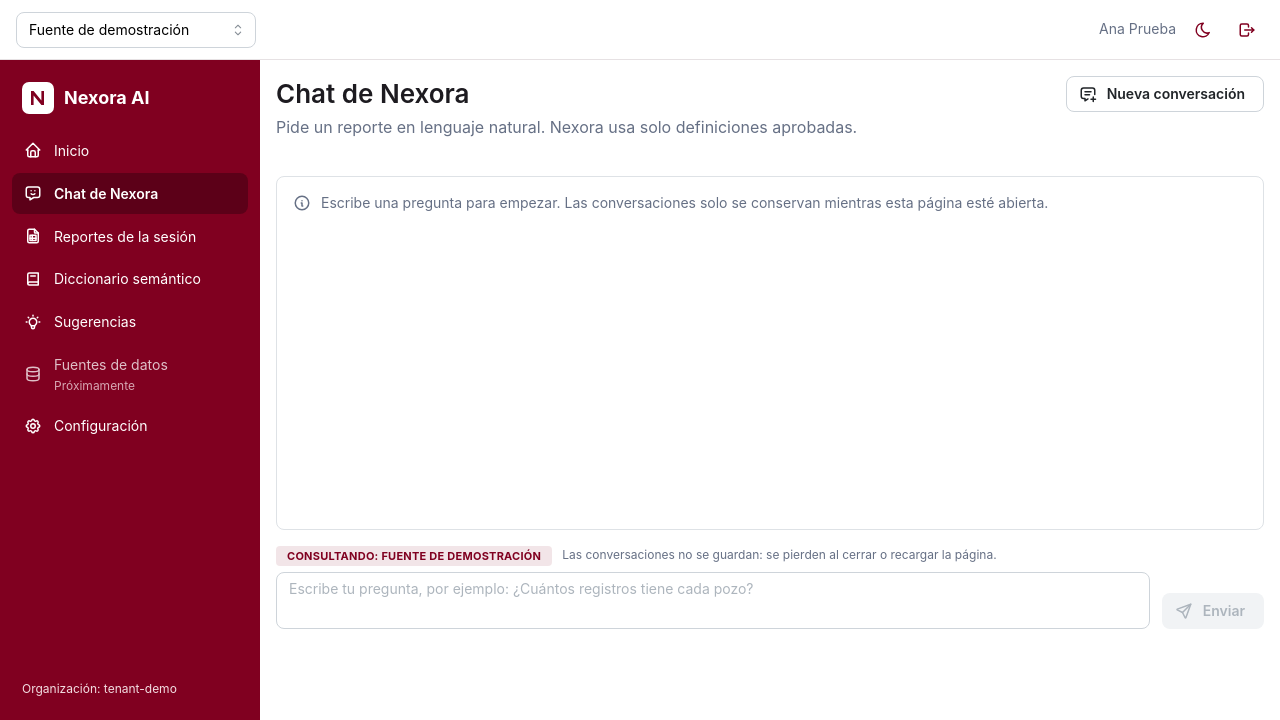
Test case: chat with Nexora (F2/F3/F4 flows, synthetic) › F3/F4: shows the business explanation of a request that cannot be answered
The width and height of the screenshot is (1280, 720).
Type "¿Cuánto vendimos?" into the text box labelled "Escribe tu pregunta" at (713, 600), box [276,572,1150,629]
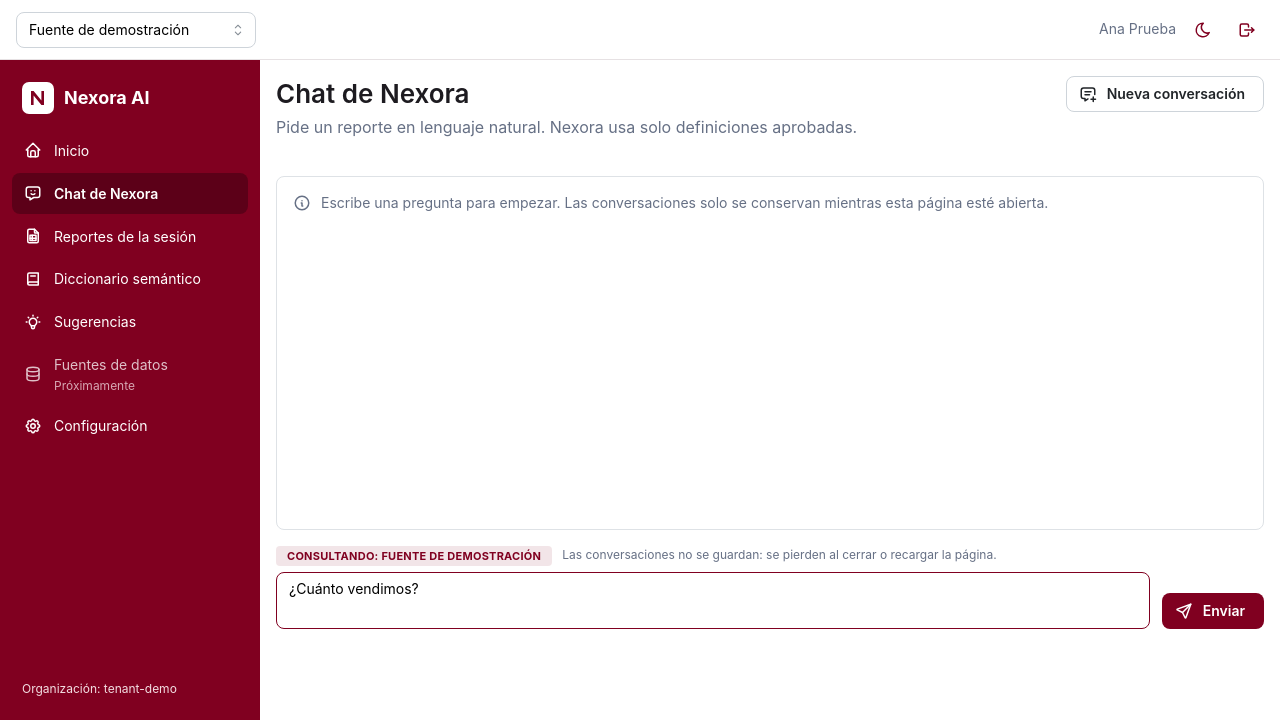
Click the button "Enviar" at (1213, 611), box [1162,593,1264,629]
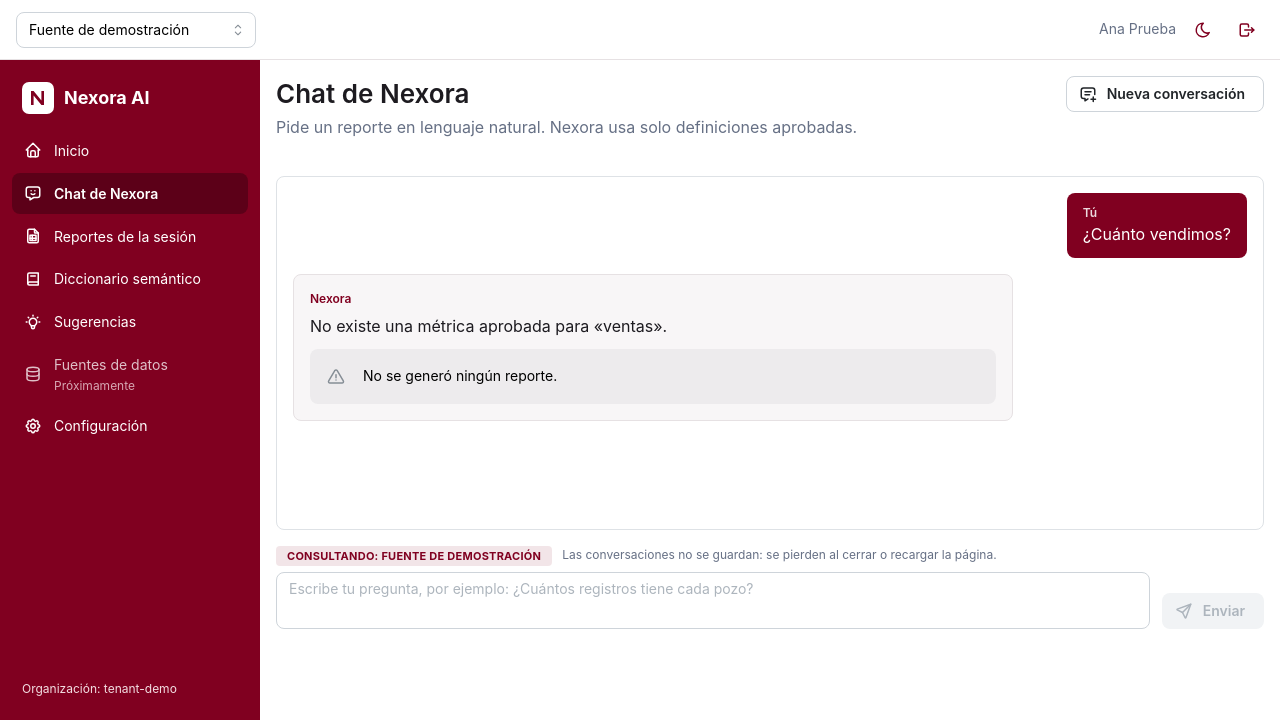
Now the text "No existe una métrica aprobada para «ventas»." is shown, box [310,316,667,336]
